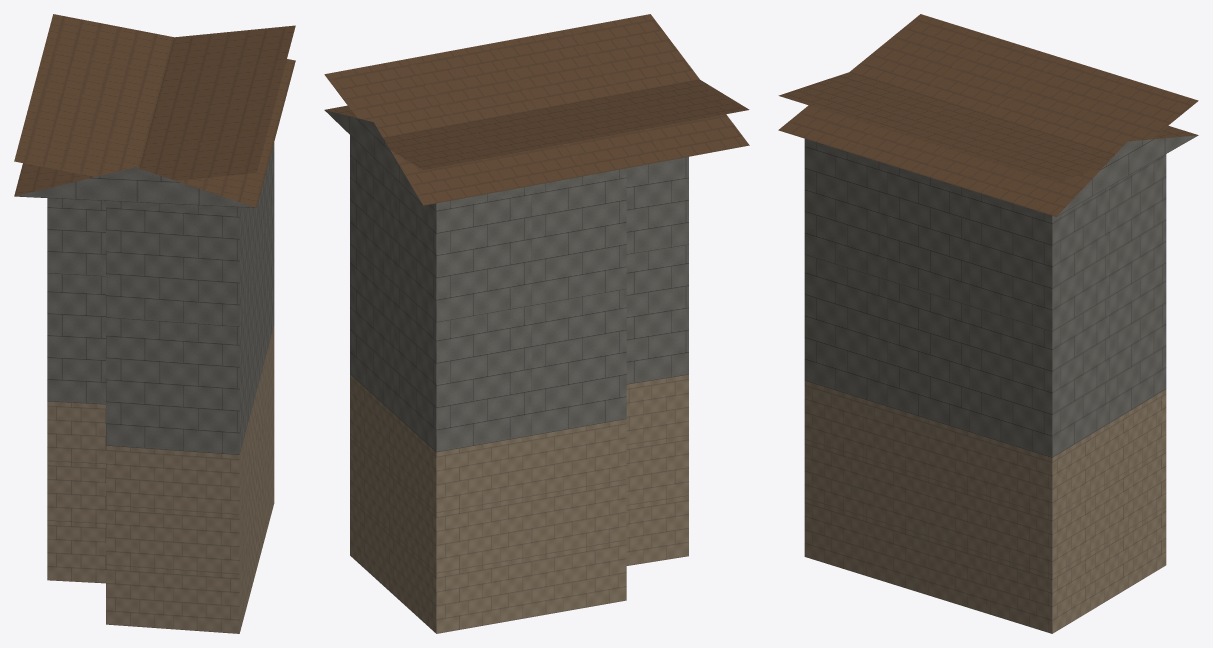
Rendered from bld_c34_46_241.gltf.
3 renders of one model, left to right at view 1: azimuth 30°, elevation 25°; view 2: azimuth 150°, elevation 25°; view 3: azimuth 270°, elevation 25°, orthographic. The views are drawn at different scales.
Parts seen in each view (by area): view 1: bld_c34_46_241; view 2: bld_c34_46_241; view 3: bld_c34_46_241.
Boxes of the visible parts, x1,y1,x2,y2 form: bld_c34_46_241: [14, 14, 295, 633]; bld_c34_46_241: [324, 14, 749, 633]; bld_c34_46_241: [778, 14, 1198, 633].
Size of the model in its own units: 10.46 by 13.4 by 11.05.
4 materials, 4 textured.
